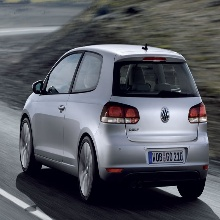no damage: (18, 44, 209, 206)
